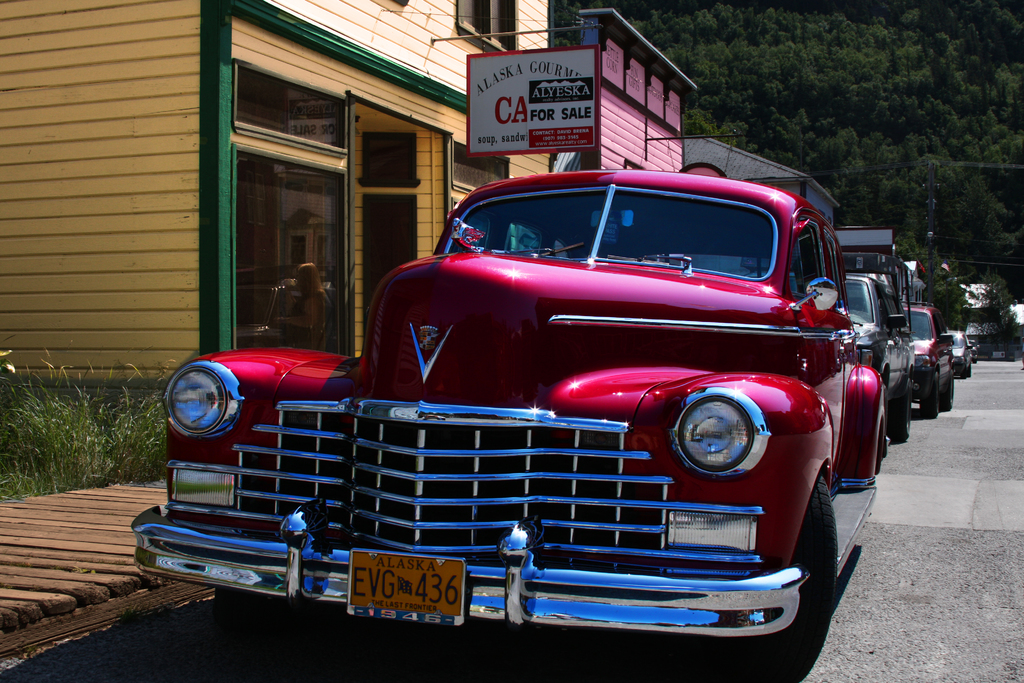Car: (172, 169, 919, 663), (879, 300, 954, 417), (939, 331, 972, 381), (969, 345, 980, 362)
